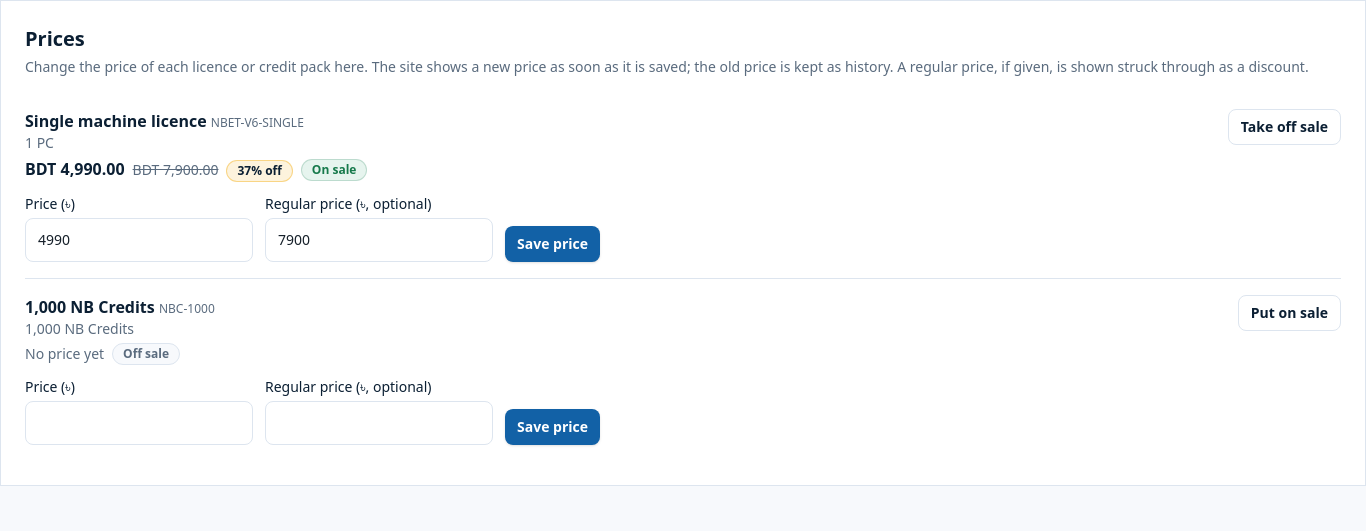
Test: ProductPrices › saves a new price in minor units and refreshes the page
Replace the text in the number field labelled "Price (৳)" below "Single machine licence" with "5500" at {"x": 139, "y": 240}, box [25,218,253,262]
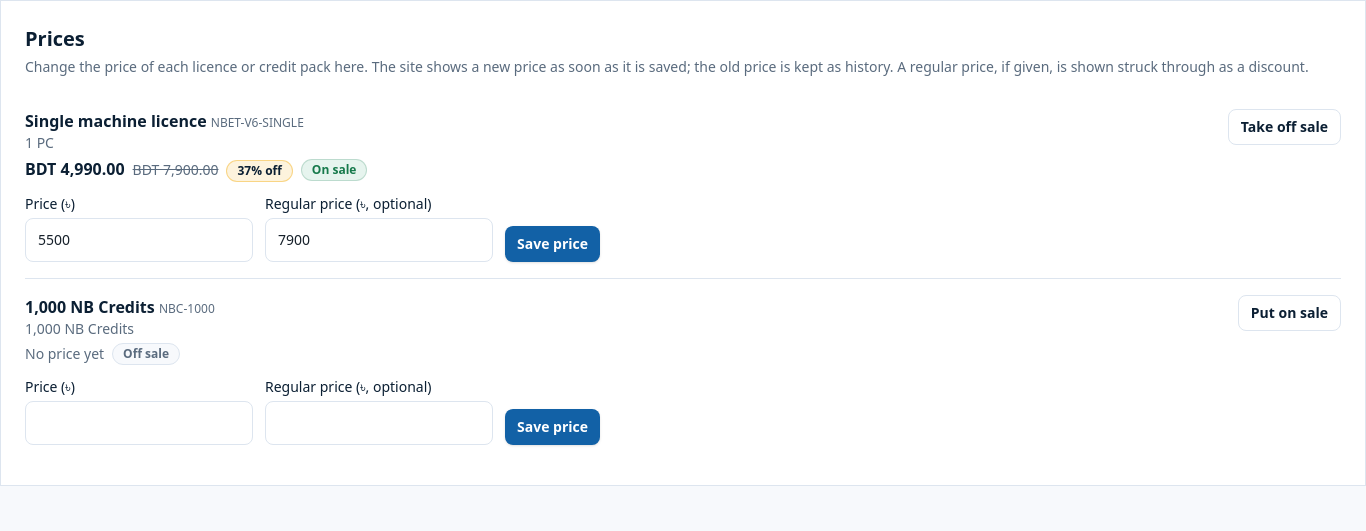
Clear the number field labelled "Regular price (৳, optional)" below "Single machine licence" at {"x": 379, "y": 240}, box [265,218,493,262]
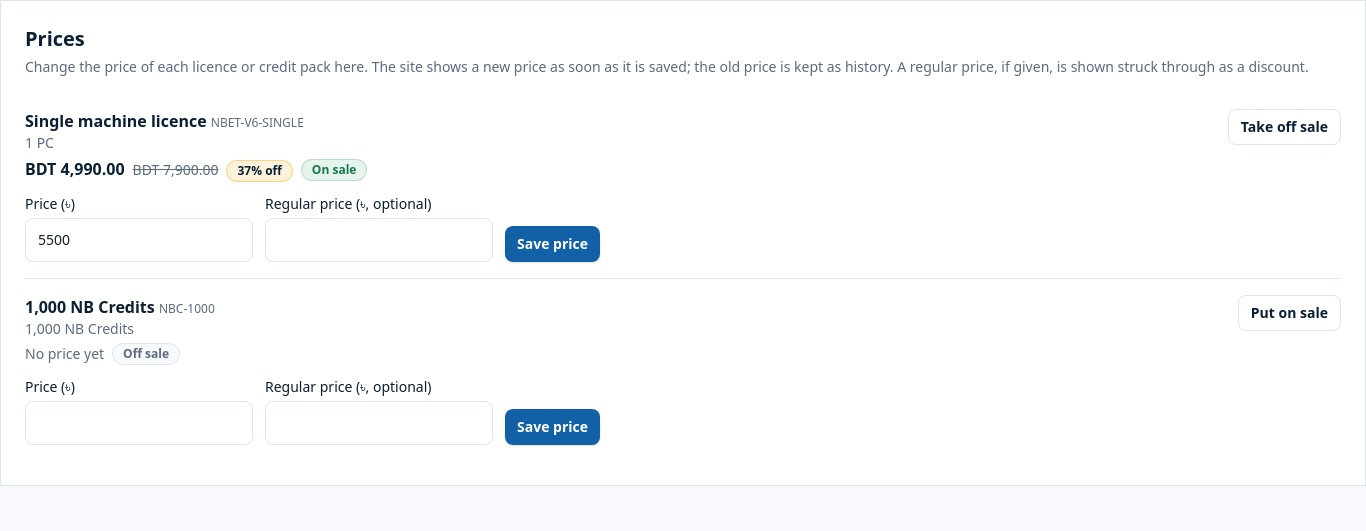
Click the button "Save price" below "NBET-V6-SINGLE" at {"x": 552, "y": 244}, box [505,226,600,262]
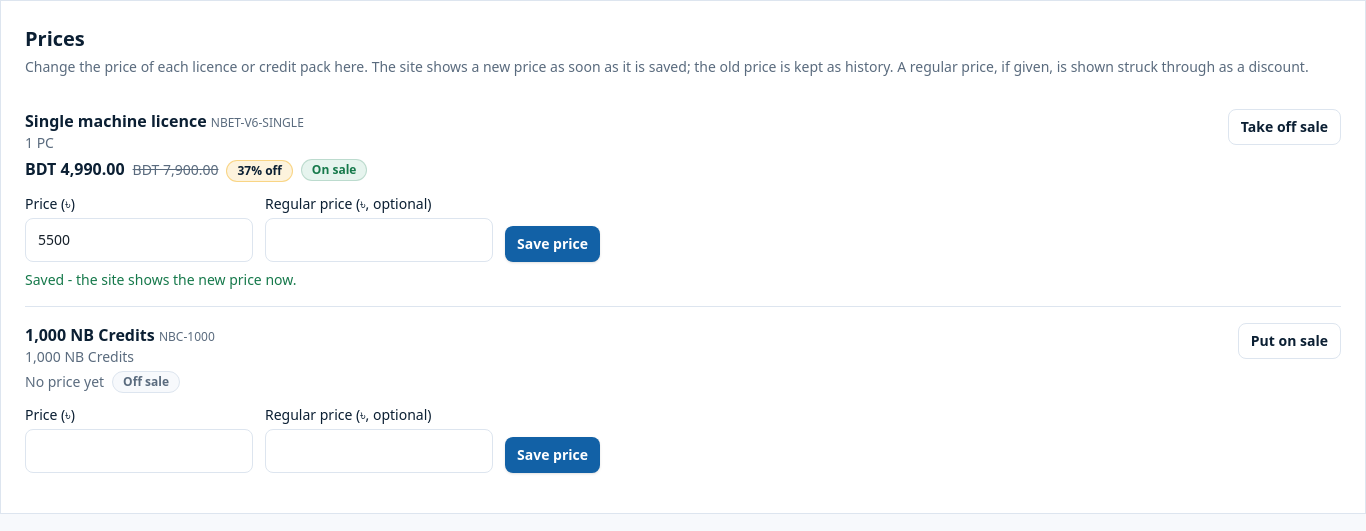
Expected: the message shows "the site shows the new price now", [25,270,296,289]
